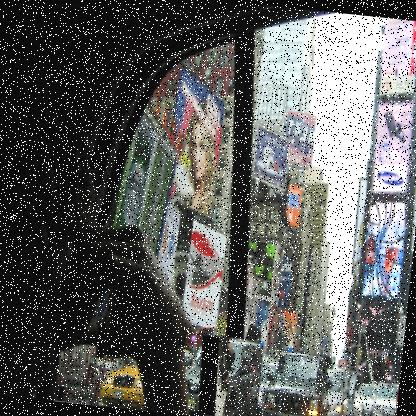Car: (0, 0, 415, 415), (177, 332, 265, 415), (97, 338, 193, 414), (259, 349, 335, 415), (56, 342, 96, 390), (317, 368, 351, 415), (254, 361, 282, 409), (367, 380, 399, 415), (351, 383, 378, 415), (96, 358, 126, 385)
